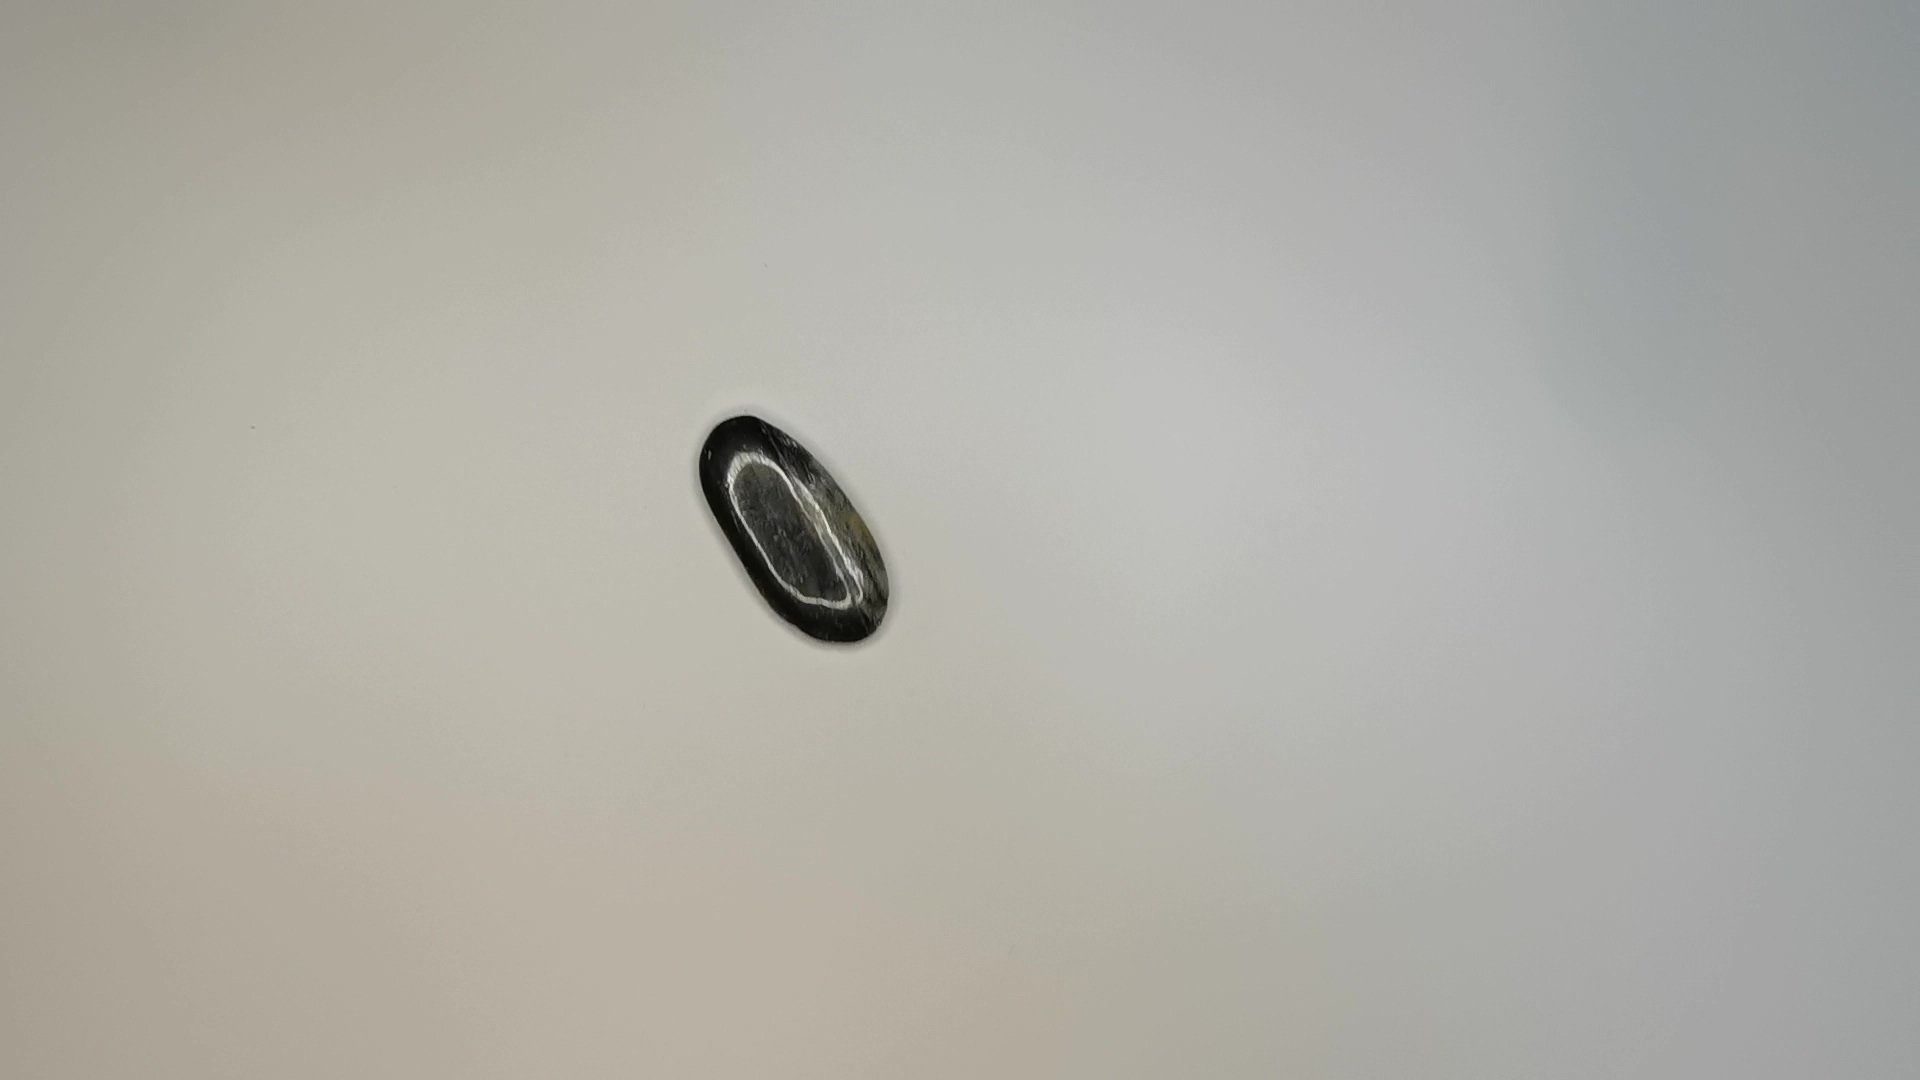ceramic: (684, 409, 897, 649)
